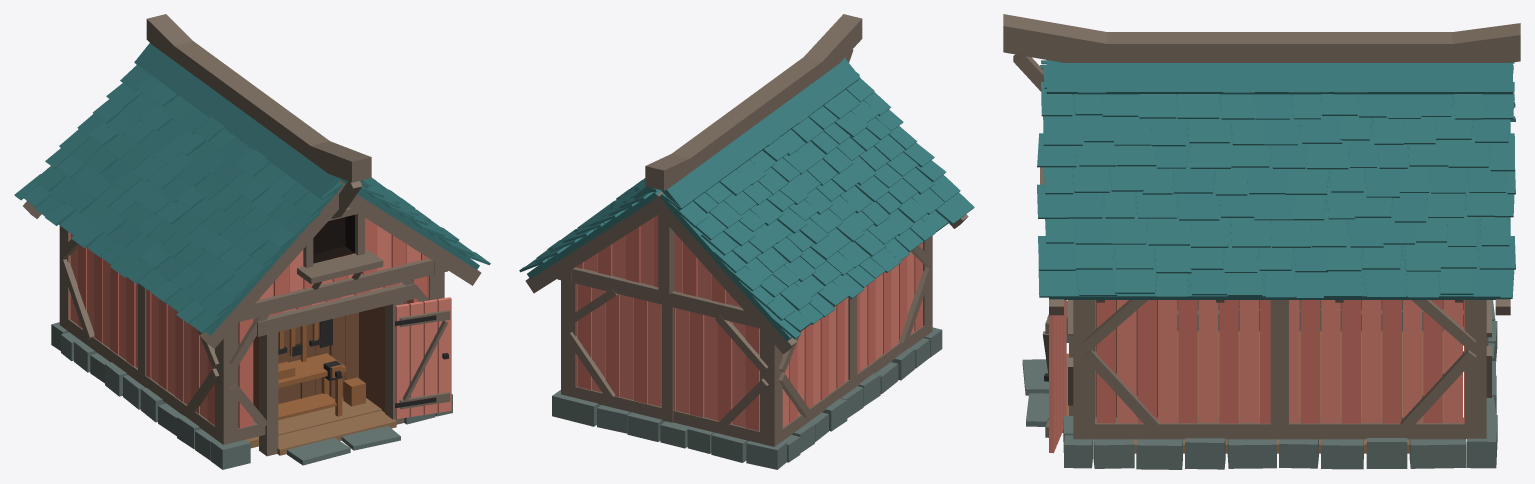
Rendered from complete.glb.
The picture shows the model from 3 angles, left to right: view 1: azimuth 30°, elevation 25°; view 2: azimuth 150°, elevation 25°; view 3: azimuth 270°, elevation 25°; orthographic projection. The views are drawn at different scales.
Visible parts, largest first — view 1: roof_shingles, timber_frame, roof_timbers, plank_walls_dark, stone_footing, plank_walls, interior, door_leaf, bench, floor, loft_trim, interior_shadow (+2 smaller); view 2: roof_shingles, timber_frame, plank_walls_dark, plank_walls, roof_timbers, stone_footing; view 3: roof_shingles, timber_frame, plank_walls_dark, plank_walls, roof_timbers, stone_footing, floor, door_leaf.
Part boxes in pixels (x1=…): roof_shingles: x1=14, y1=43, x2=490, y2=335; timber_frame: x1=59, y1=226, x2=448, y2=456; roof_timbers: x1=23, y1=14, x2=481, y2=348; plank_walls_dark: x1=69, y1=218, x2=428, y2=428; stone_footing: x1=51, y1=322, x2=452, y2=469; plank_walls: x1=70, y1=225, x2=428, y2=419; interior: x1=253, y1=306, x2=384, y2=412; door_leaf: x1=395, y1=297, x2=451, y2=418; bench: x1=278, y1=322, x2=365, y2=420; floor: x1=246, y1=397, x2=396, y2=455; loft_trim: x1=297, y1=207, x2=383, y2=289; interior_shadow: x1=313, y1=215, x2=354, y2=263; roof_shingles: x1=519, y1=58, x2=974, y2=341; timber_frame: x1=557, y1=215, x2=932, y2=446; plank_walls_dark: x1=576, y1=215, x2=922, y2=430; plank_walls: x1=576, y1=217, x2=914, y2=427; roof_timbers: x1=525, y1=14, x2=968, y2=354; stone_footing: x1=552, y1=327, x2=942, y2=469; roof_shingles: x1=1037, y1=60, x2=1515, y2=299; timber_frame: x1=1068, y1=300, x2=1491, y2=439; plank_walls_dark: x1=1096, y1=300, x2=1464, y2=423; plank_walls: x1=1095, y1=300, x2=1462, y2=423; roof_timbers: x1=1003, y1=14, x2=1520, y2=315; stone_footing: x1=1022, y1=300, x2=1497, y2=469; floor: x1=1062, y1=331, x2=1443, y2=453; door_leaf: x1=1049, y1=300, x2=1066, y2=453.
Bounding box in the file's own units: 5.05 × 4.99 × 6.21.
